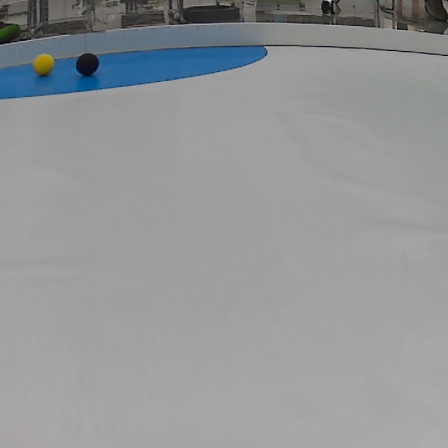black: (77, 50, 101, 74)
blue_base: (0, 44, 271, 100)
yellow: (34, 51, 55, 80)
